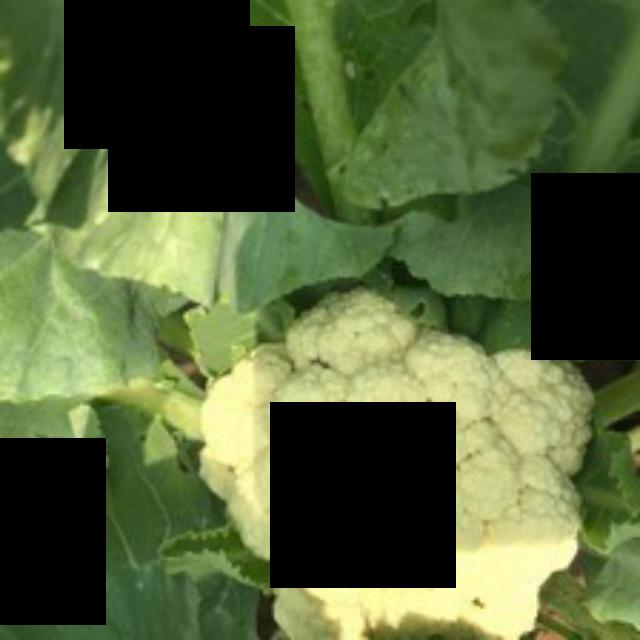cauliflower: (186, 274, 636, 637)
